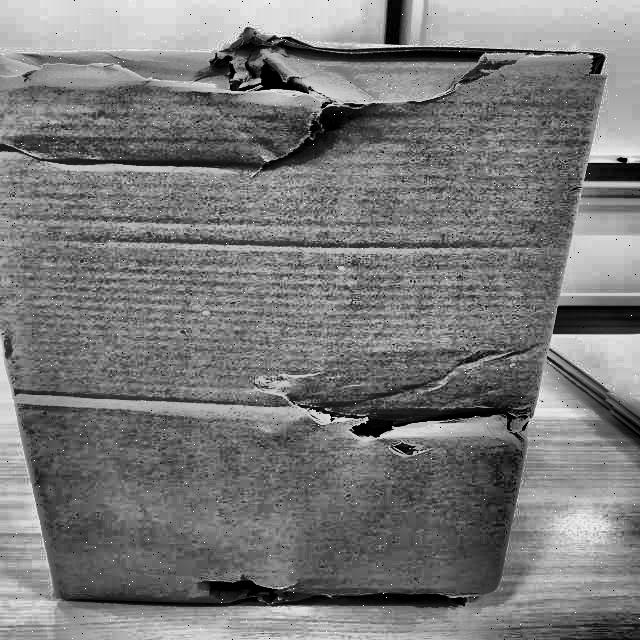box: (1, 36, 626, 618)
hole: (183, 568, 489, 612), (202, 48, 475, 96), (292, 397, 492, 449)
